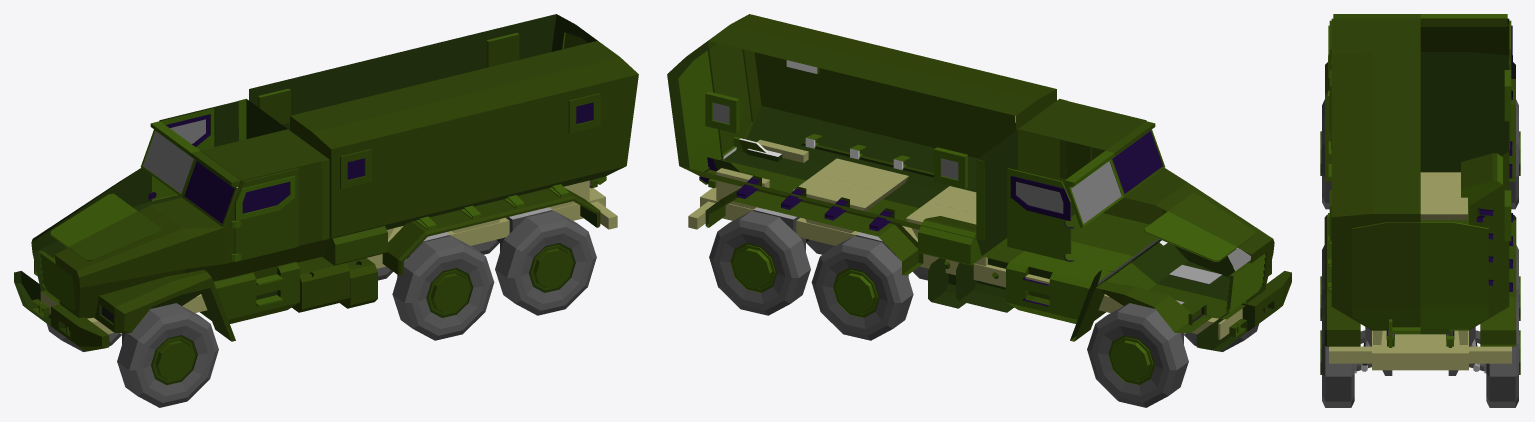
File: tayfunu.fbx
3 views of the same model, side by side, from view 1: azimuth 30°, elevation 25°; view 2: azimuth 150°, elevation 25°; view 3: azimuth 270°, elevation 25° (orthographic). The views are drawn at different scales.
Parts seen in each view (by area): view 1: Куб.003; view 2: Куб.003; view 3: Куб.003.
Part boxes in pixels (x1,y1,x2,y2): Куб.003: (14, 14, 638, 407); Куб.003: (667, 14, 1291, 407); Куб.003: (1320, 14, 1520, 407).
Bounding box in the file's own units: 892 × 339 × 263.
